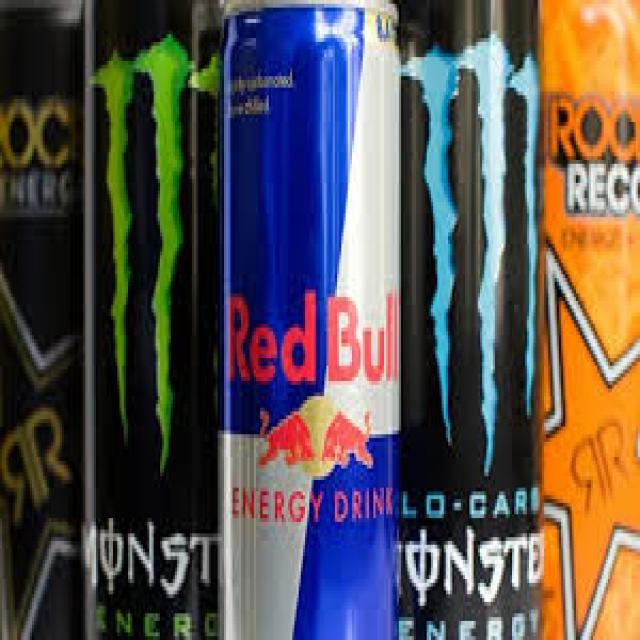Cans: (215, 4, 412, 640)
